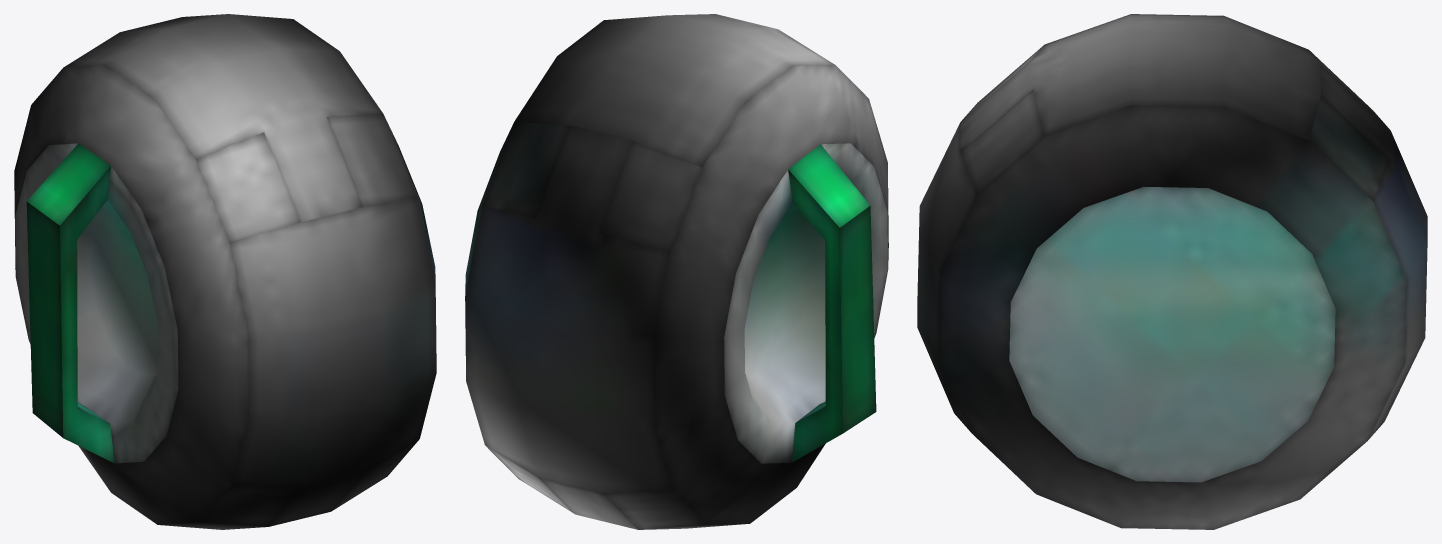
Rendered from frontright2.obj.
The picture shows the model from 3 angles, left to right: view 1: azimuth 30°, elevation 25°; view 2: azimuth 150°, elevation 25°; view 3: azimuth 270°, elevation 25°; orthographic projection.
Visible parts, largest first — view 1: Object013; view 2: Object013; view 3: Object013.
Part boxes in pixels (box(x1,y1,x2,y2)): Object013: box(14, 14, 436, 529); Object013: box(465, 14, 888, 529); Object013: box(917, 14, 1427, 529).
Size of the model in its own units: 5.4 by 7.73 by 7.73.
Materials: 1 (1 with a texture image).
